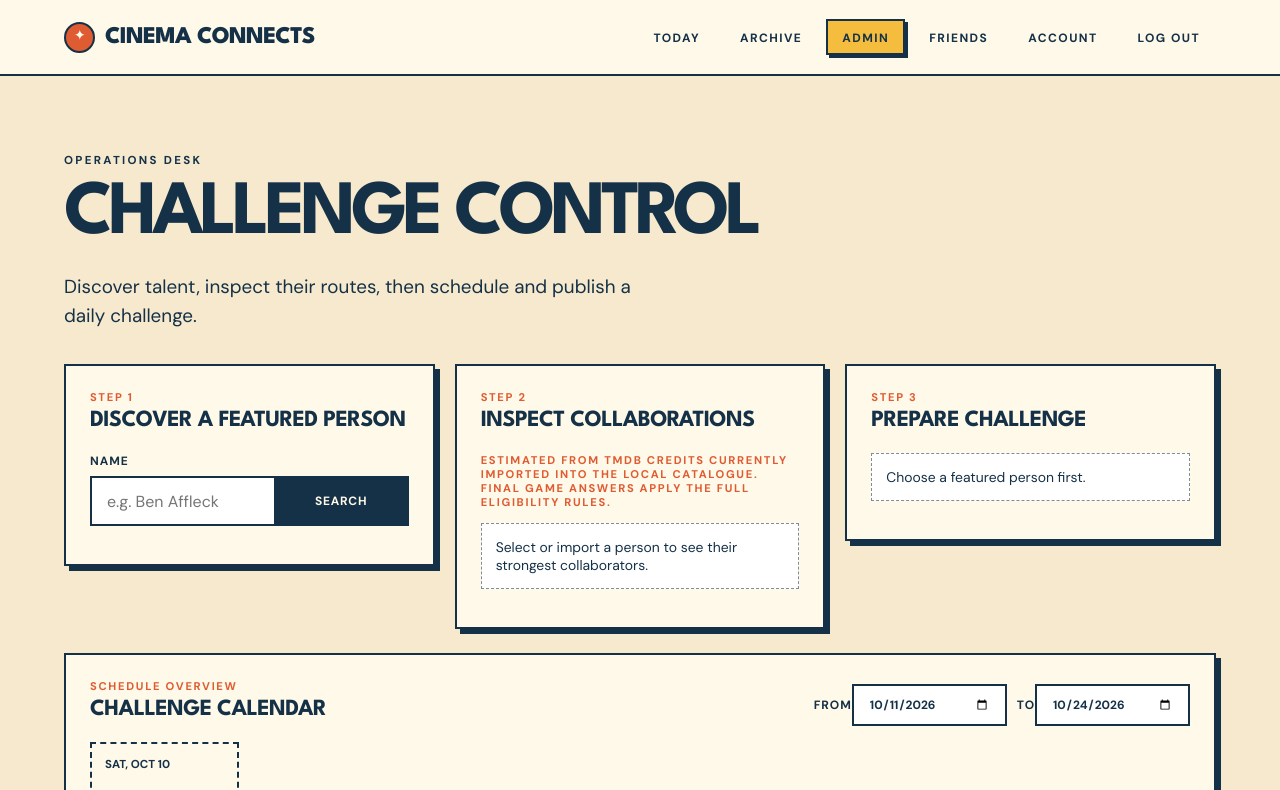
Test case: runs the admin discovery, scheduling, preview and publish workflow
Step 1. Type "Ben Affleck" into the field labelled "Name" → {"x": 183, "y": 501}, box [90,476,276,526]
Step 2. Click the button "Search" → {"x": 341, "y": 501}, box [274,476,409,526]
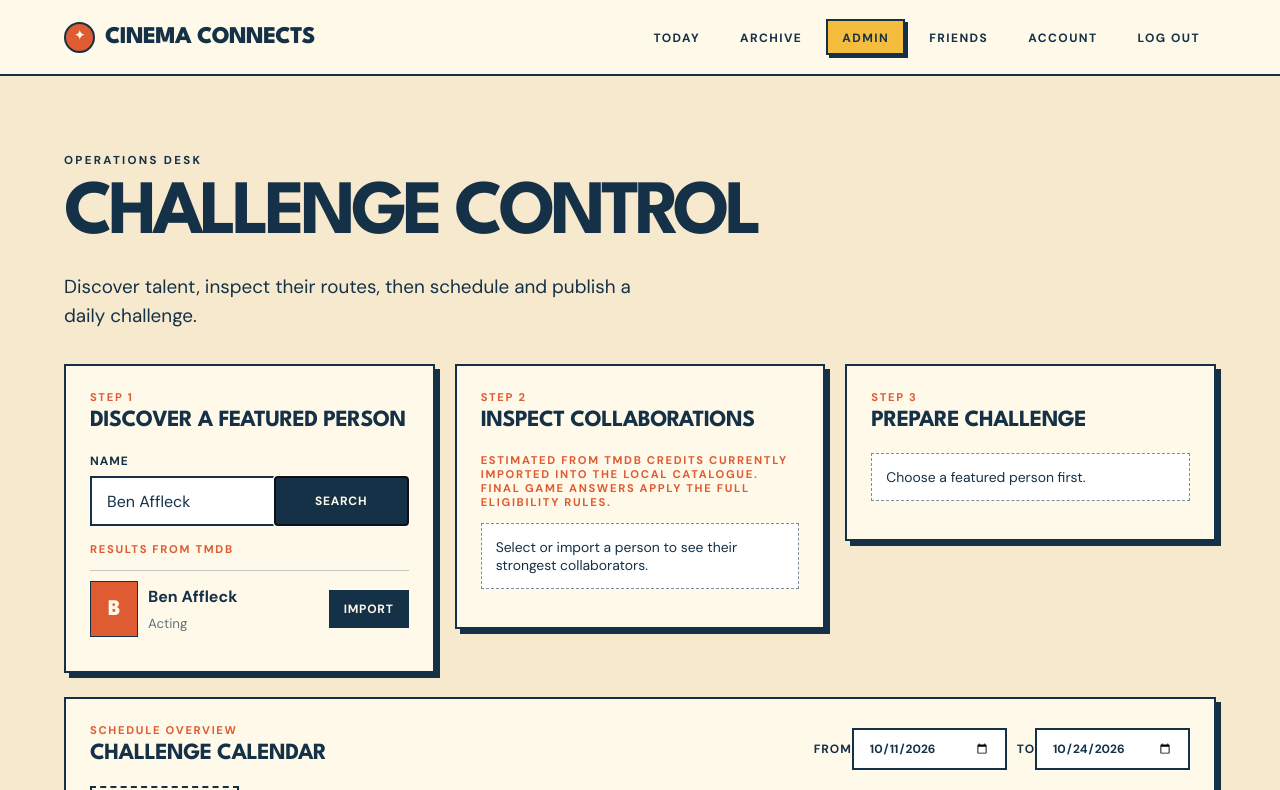
Step 3. Click the button "Import" → {"x": 369, "y": 609}, box [329,590,409,628]
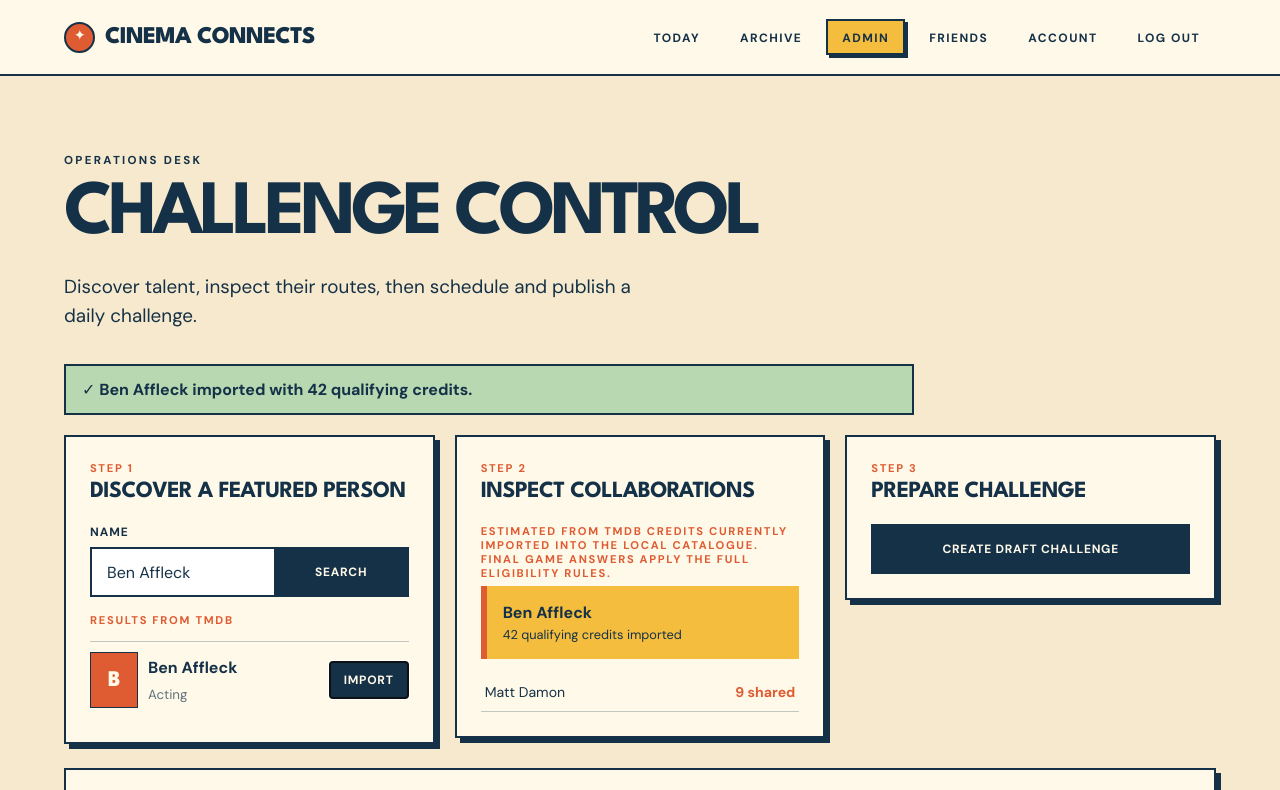
Check: the text "42 qualifying credits imported" is shown, box [503,626,682,643]
Check: the text "Matt Damon" is shown, box [485,683,565,701]
Step 4. Click the button "Create draft challenge" → {"x": 1031, "y": 549}, box [871,524,1190,574]
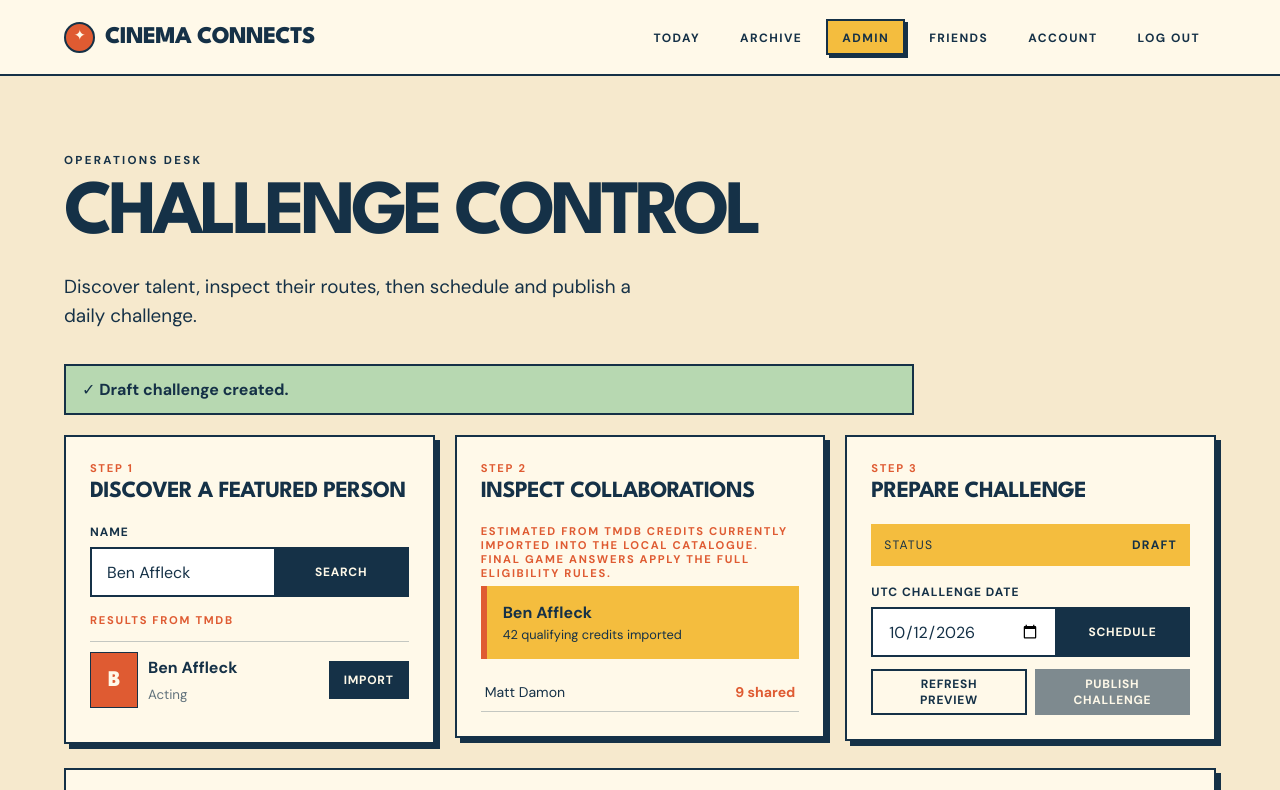
Check: the text "draft" is shown, box [1132,537,1177,553]
Step 5. Click the button "Schedule" → {"x": 1122, "y": 632}, box [1055,607,1190,657]
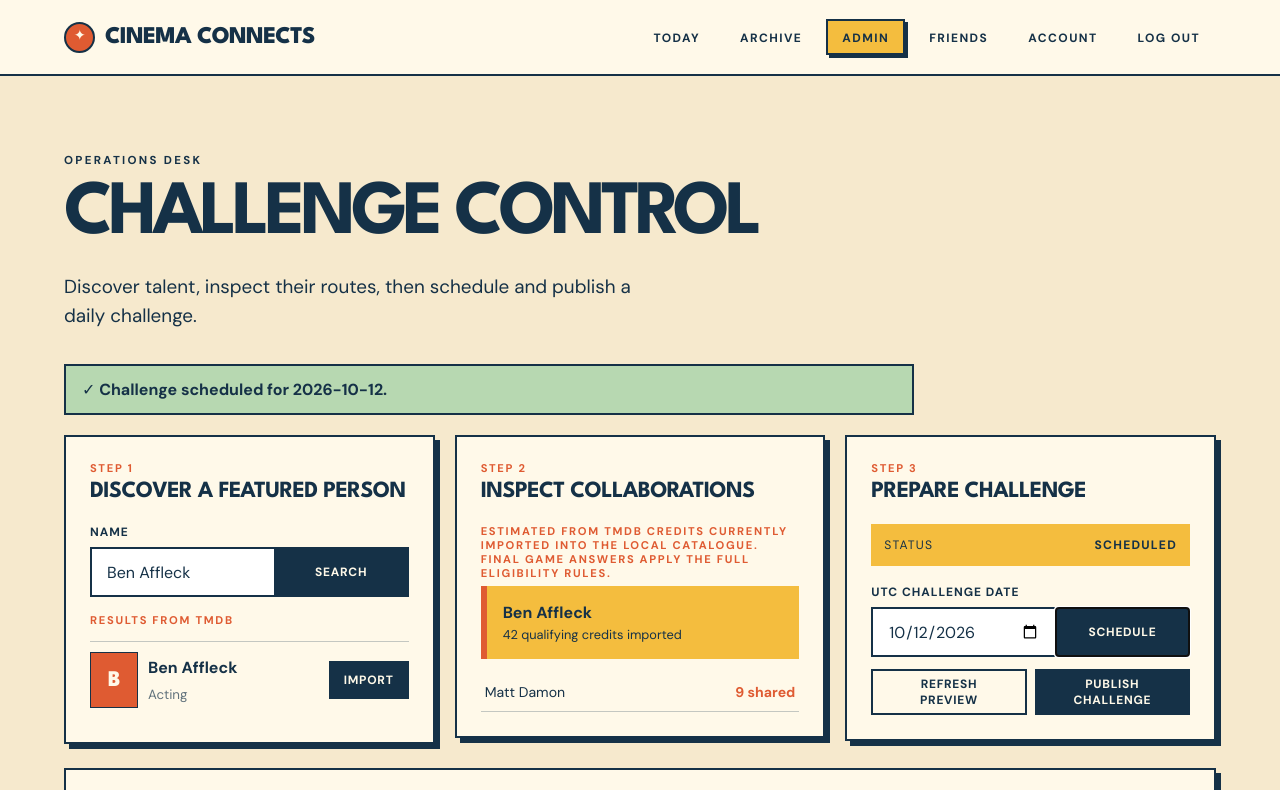
Check: the text "scheduled" is shown, box [1095,537,1177,553]
Step 6. Click the button "Refresh preview" → {"x": 949, "y": 692}, box [871,669,1027,715]
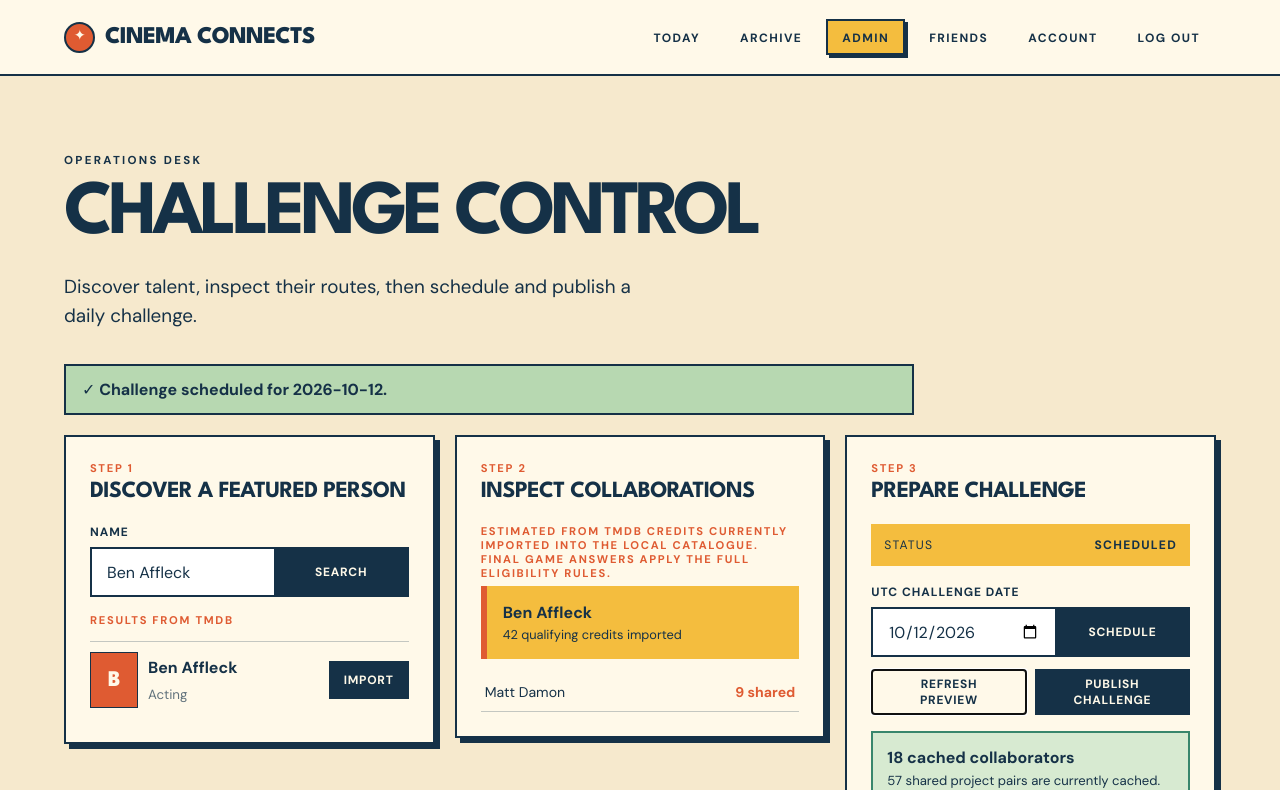
Check: the text "18 cached collaborators" is shown, box [887,747,1075,768]
Step 7. Click the button "Publish challenge" → {"x": 1112, "y": 692}, box [1035,669,1190,715]
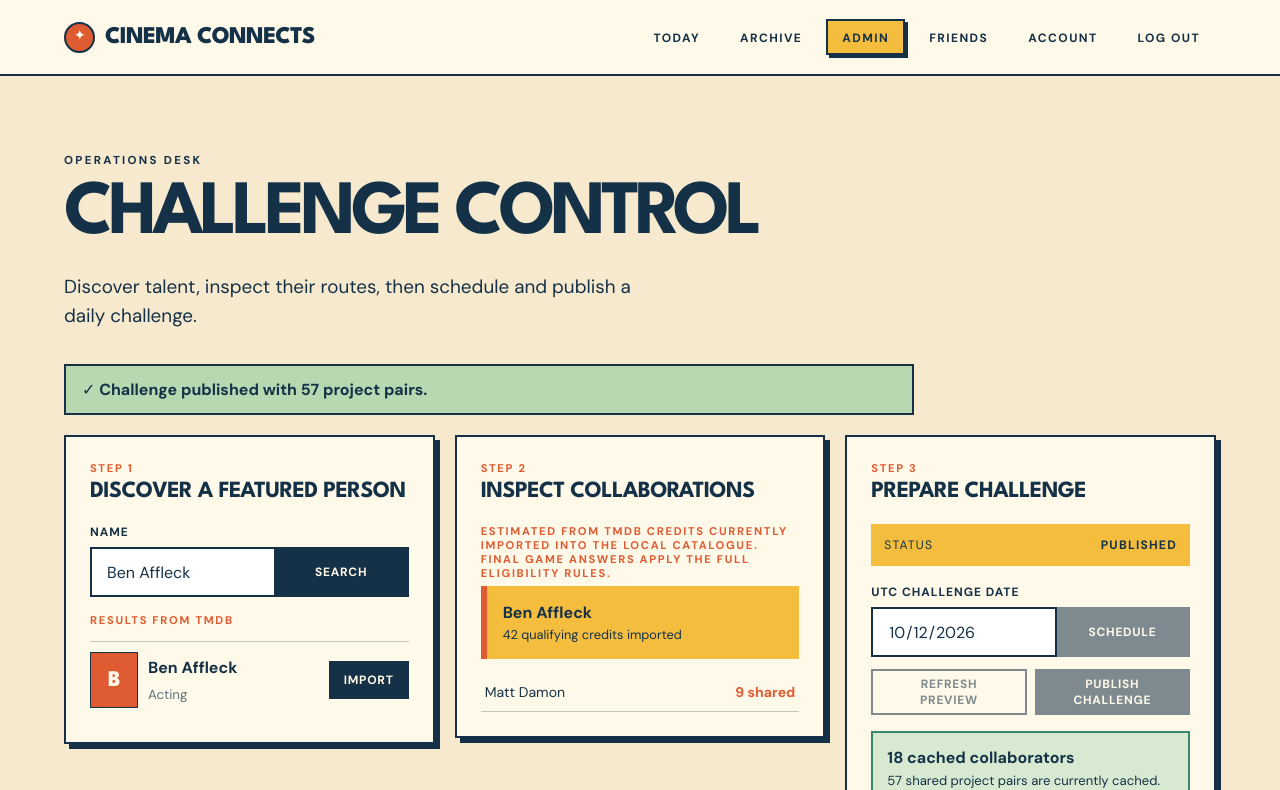
Check: the text "✓ Challenge published with 57 project pairs." is shown, box [64,364,914,415]
